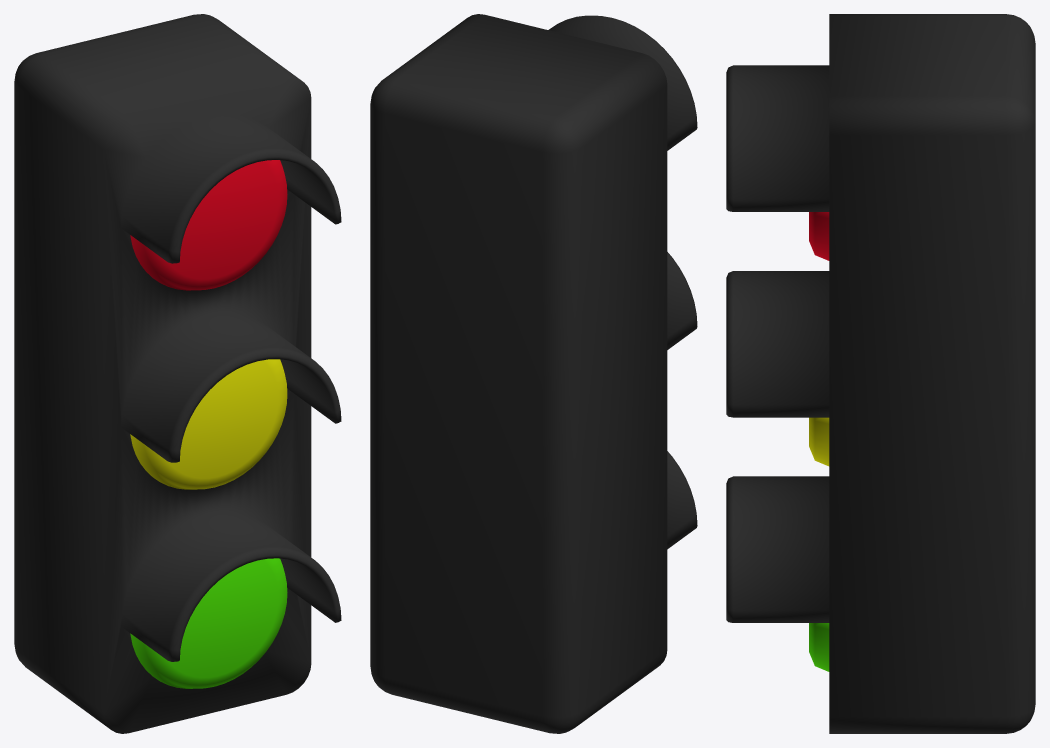
File: traffic_light_poleles.glb
The picture shows the model from 3 angles, left to right: view 1: azimuth 30°, elevation 25°; view 2: azimuth 150°, elevation 25°; view 3: azimuth 270°, elevation 25°; orthographic projection. The views are drawn at different scales.
Parts seen in each view (by area): view 1: Cube; view 2: Cube; view 3: Cube.
Boxes of the visible parts, x1,y1,x2,y2 form: Cube: [14, 14, 341, 733]; Cube: [370, 14, 697, 733]; Cube: [726, 14, 1035, 733].
Bounding box in the file's own units: 0.24 × 0.68 × 0.3.
